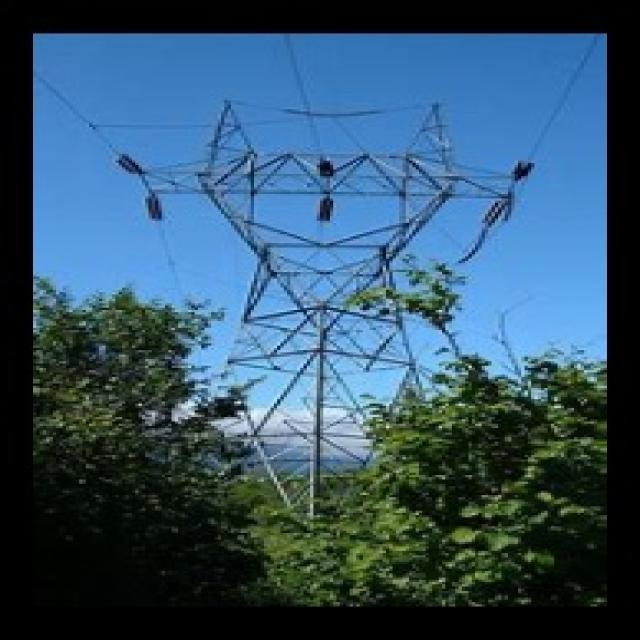utility poles: (338, 269, 571, 483), (108, 270, 296, 456)
